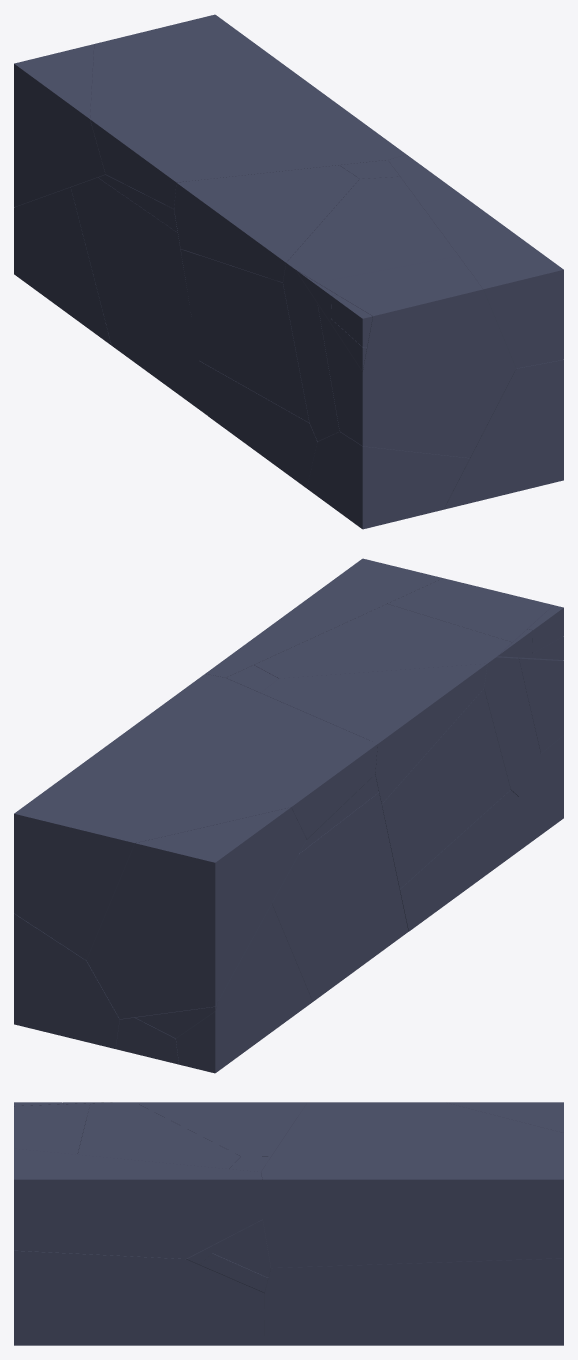
File: DestroyedStandardBrick.fbx
3 renders of one model, top to bottom at view 1: azimuth 30°, elevation 25°; view 2: azimuth 150°, elevation 25°; view 3: azimuth 270°, elevation 25°, orthographic. The views are drawn at different scales.
Visible parts, largest first — view 1: StandardBrick.001_cell, StandardBrick.001_cell.007_cell.001, StandardBrick.001_cell.005_cell, StandardBrick.001_cell.007_cell, StandardBrick.001_cell.007_cell.004, StandardBrick.001_cell.002, StandardBrick.001_cell.007_cell.002, StandardBrick.001_cell.004, StandardBrick.001_cell.003, StandardBrick.001_cell.007_cell.006, StandardBrick.001_cell.005_cell.004, StandardBrick.001_cell.007_cell.007 (+4 smaller); view 2: StandardBrick.001_cell, StandardBrick.001_cell.004, StandardBrick.001_cell.005_cell, StandardBrick.001_cell.007_cell, StandardBrick.001_cell.007_cell.004, StandardBrick.001_cell.007_cell.002, StandardBrick.001_cell.005_cell.004, StandardBrick.001_cell.001, StandardBrick.001_cell.007_cell.001, StandardBrick.001_cell.002, StandardBrick.001_cell.007_cell.007, StandardBrick.001_cell.007_cell.006 (+5 smaller); view 3: StandardBrick.001_cell, StandardBrick.001_cell.001, StandardBrick.001_cell.002, StandardBrick.001_cell.003, StandardBrick.001_cell.007_cell, StandardBrick.001_cell.007_cell.004, StandardBrick.001_cell.007_cell.001, StandardBrick.001_cell.007_cell.005, StandardBrick.001_cell.004, StandardBrick.001_cell.007_cell.003.
Part boxes in pixels (x1=…): StandardBrick.001_cell: x1=90, y1=14, x2=405, y2=208; StandardBrick.001_cell.007_cell.001: x1=317, y1=256, x2=516, y2=457; StandardBrick.001_cell.005_cell: x1=71, y1=177, x2=207, y2=415; StandardBrick.001_cell.007_cell: x1=283, y1=176, x2=458, y2=441; StandardBrick.001_cell.007_cell.004: x1=174, y1=165, x2=359, y2=282; StandardBrick.001_cell.002: x1=388, y1=154, x2=563, y2=368; StandardBrick.001_cell.007_cell.002: x1=180, y1=249, x2=309, y2=422; StandardBrick.001_cell.004: x1=14, y1=44, x2=105, y2=207; StandardBrick.001_cell.003: x1=444, y1=360, x2=563, y2=509; StandardBrick.001_cell.007_cell.006: x1=307, y1=431, x2=469, y2=529; StandardBrick.001_cell.005_cell.004: x1=14, y1=187, x2=111, y2=345; StandardBrick.001_cell.007_cell.007: x1=198, y1=361, x2=317, y2=488; StandardBrick.001_cell: x1=14, y1=674, x2=377, y2=960; StandardBrick.001_cell.004: x1=86, y1=807, x2=306, y2=1019; StandardBrick.001_cell.005_cell: x1=272, y1=792, x2=408, y2=1001; StandardBrick.001_cell.007_cell: x1=254, y1=604, x2=540, y2=796; StandardBrick.001_cell.007_cell.004: x1=261, y1=663, x2=487, y2=803; StandardBrick.001_cell.007_cell.002: x1=381, y1=689, x2=510, y2=888; StandardBrick.001_cell.005_cell.004: x1=176, y1=904, x2=312, y2=1073; StandardBrick.001_cell.001: x1=14, y1=913, x2=119, y2=1048; StandardBrick.001_cell.007_cell.001: x1=387, y1=578, x2=563, y2=753; StandardBrick.001_cell.002: x1=205, y1=558, x2=442, y2=677; StandardBrick.001_cell.007_cell.007: x1=399, y1=790, x2=518, y2=931; StandardBrick.001_cell.007_cell.006: x1=508, y1=735, x2=563, y2=858; StandardBrick.001_cell: x1=261, y1=1102, x2=563, y2=1267; StandardBrick.001_cell.001: x1=264, y1=1258, x2=563, y2=1345; StandardBrick.001_cell.002: x1=14, y1=1148, x2=262, y2=1258; StandardBrick.001_cell.003: x1=14, y1=1250, x2=264, y2=1345; StandardBrick.001_cell.007_cell: x1=77, y1=1102, x2=240, y2=1264; StandardBrick.001_cell.007_cell.004: x1=135, y1=1102, x2=307, y2=1156; StandardBrick.001_cell.007_cell.001: x1=14, y1=1103, x2=90, y2=1154; StandardBrick.001_cell.007_cell.005: x1=212, y1=1156, x2=271, y2=1277; StandardBrick.001_cell.004: x1=445, y1=1102, x2=563, y2=1132; StandardBrick.001_cell.007_cell.003: x1=200, y1=1253, x2=268, y2=1293.
Bounding box in the file's own units: 200 × 200 × 600.
